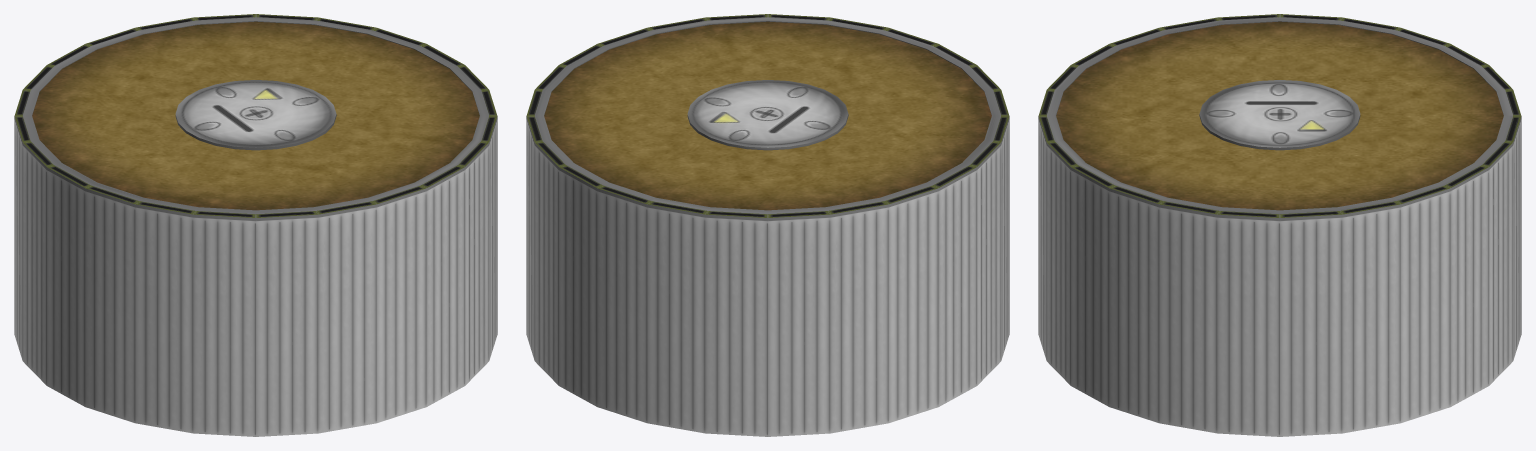
Rendered from MK85ISC.FBX.
3 renders of one model, left to right at view 1: azimuth 30°, elevation 25°; view 2: azimuth 150°, elevation 25°; view 3: azimuth 270°, elevation 25°, orthographic.
Parts seen in each view (by area): view 1: ServiceBaySide, EndCap, CrewCap, BracingHoop001; view 2: ServiceBaySide, EndCap, CrewCap, BracingHoop001; view 3: ServiceBaySide, EndCap, CrewCap, BracingHoop001.
Part boxes in pixels (x1=…): ServiceBaySide: x1=14, y1=14, x2=497, y2=436; EndCap: x1=32, y1=21, x2=479, y2=210; CrewCap: x1=175, y1=80, x2=336, y2=150; BracingHoop001: x1=22, y1=17, x2=489, y2=214; ServiceBaySide: x1=526, y1=14, x2=1009, y2=436; EndCap: x1=544, y1=21, x2=991, y2=210; CrewCap: x1=687, y1=80, x2=848, y2=150; BracingHoop001: x1=534, y1=17, x2=1001, y2=214; ServiceBaySide: x1=1038, y1=14, x2=1521, y2=436; EndCap: x1=1056, y1=21, x2=1503, y2=210; CrewCap: x1=1199, y1=80, x2=1360, y2=150; BracingHoop001: x1=1046, y1=17, x2=1513, y2=214.
Size of what is drawn, in the model's own units: 1.87 by 0.9483 by 1.87.
